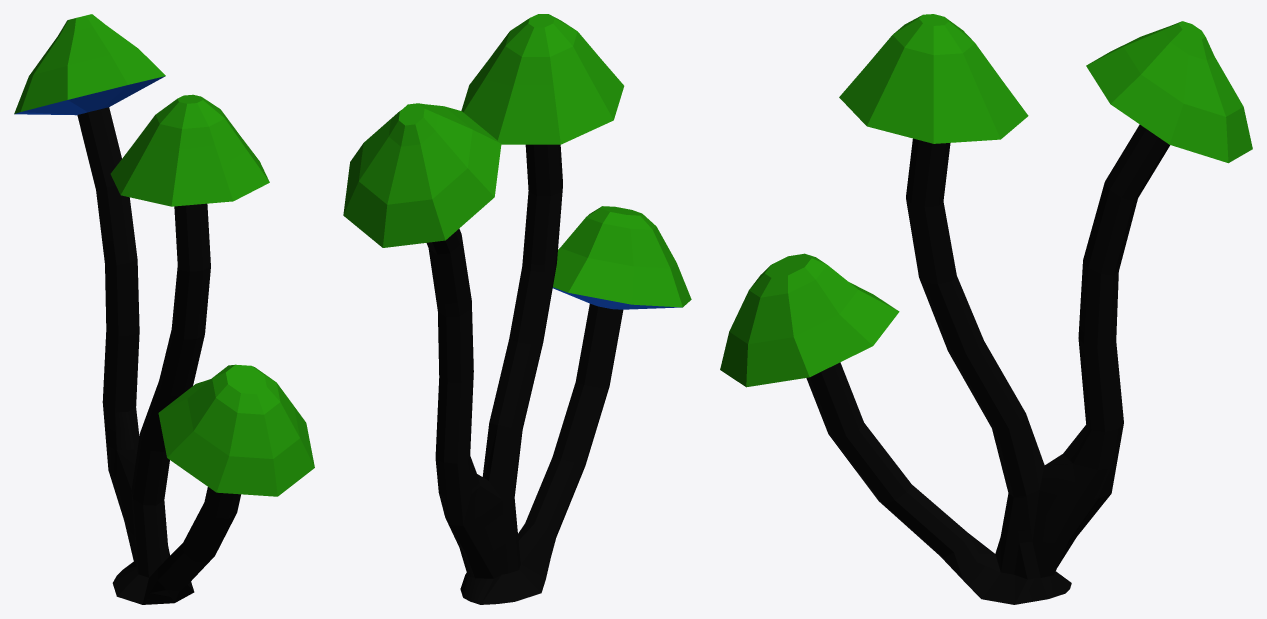
Rendered from Mushroom07_HT.fbx.
The picture shows the model from 3 angles, left to right: view 1: azimuth 30°, elevation 25°; view 2: azimuth 150°, elevation 25°; view 3: azimuth 270°, elevation 25°; orthographic projection. The views are drawn at different scales.
Visible parts, largest first — view 1: Mushroom07_HT; view 2: Mushroom07_HT; view 3: Mushroom07_HT.
Part boxes in pixels (<box>): Mushroom07_HT: <box>14,14,314,604</box>; Mushroom07_HT: <box>343,14,691,604</box>; Mushroom07_HT: <box>720,14,1252,604</box>.
Bounding box in the file's own units: 32.55 × 103 × 87.5.
